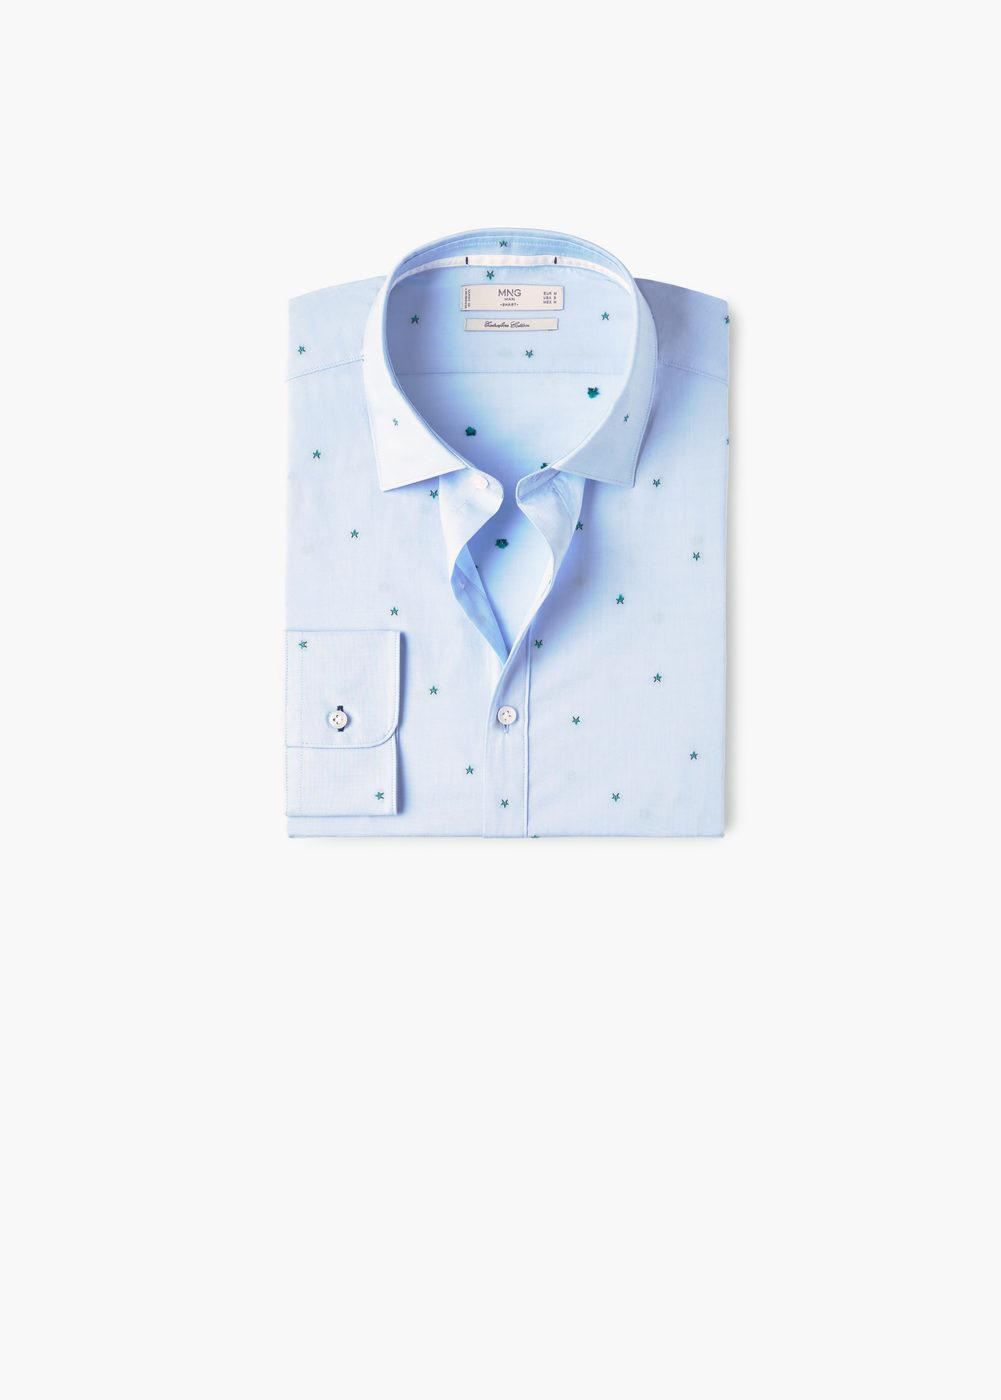teeshirt: (261, 212, 772, 880)
